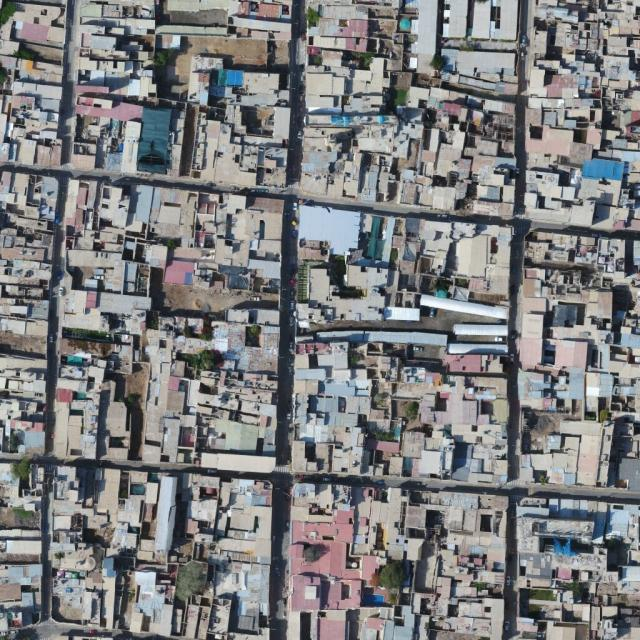building: (289, 206, 519, 485), (50, 288, 288, 476), (62, 179, 286, 306), (256, 147, 288, 187)
dryland: (160, 283, 280, 323)
